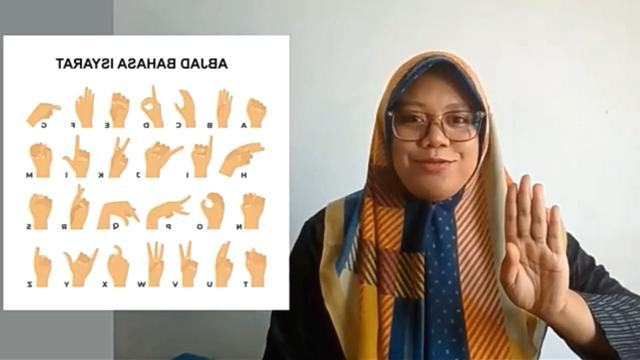B: (498, 174, 570, 320)
